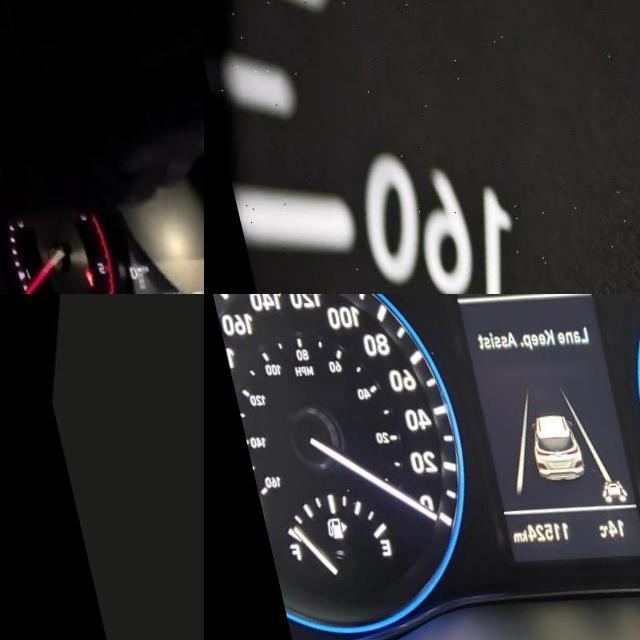Seat Belt: (69, 275, 79, 292)
